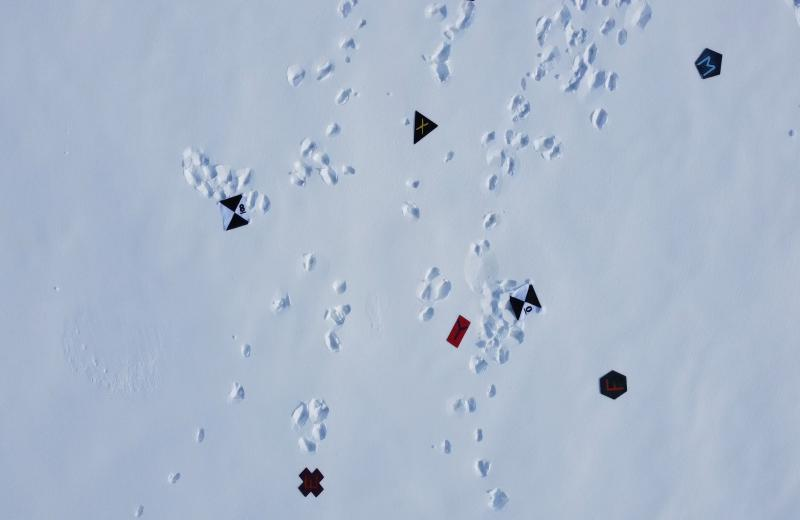Cross: (298, 466, 326, 498)
Hexagon: (598, 370, 628, 401)
Pentagon: (693, 47, 724, 80)
Rectangle: (443, 316, 473, 347)
Triangle: (412, 111, 439, 145)
